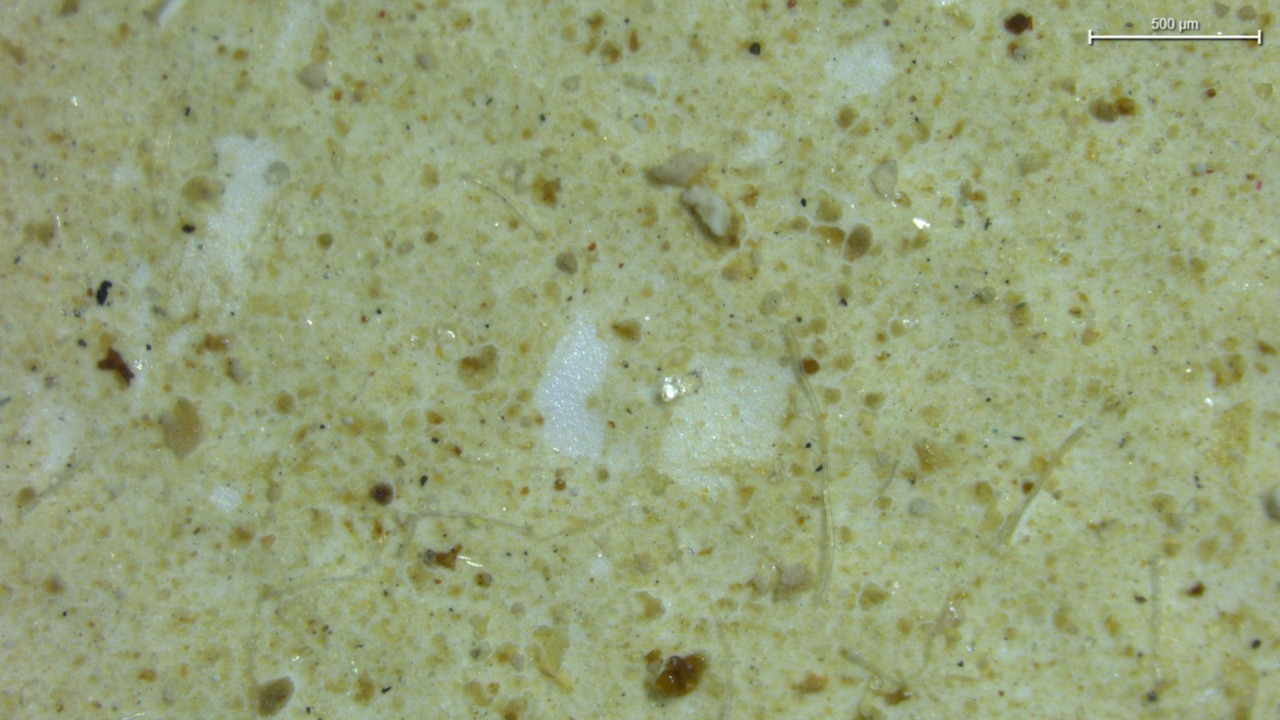microplastic_fragment: (682, 185, 733, 241), (647, 150, 713, 186), (659, 371, 701, 403), (869, 159, 898, 200)
